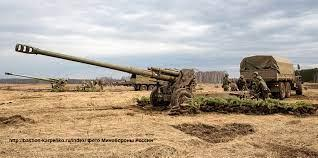sau: (11, 34, 202, 114)
truck: (238, 52, 310, 100)
